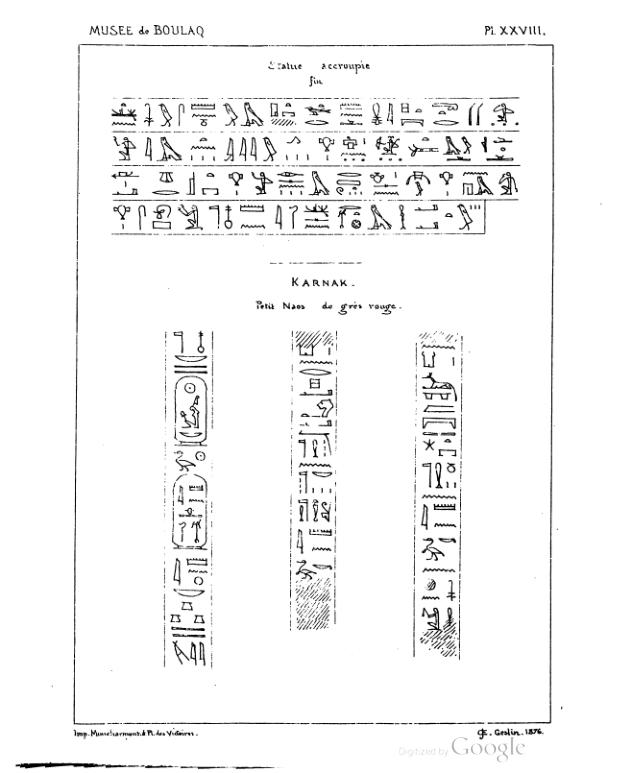circle: (171, 472, 209, 553), (172, 375, 210, 449)
